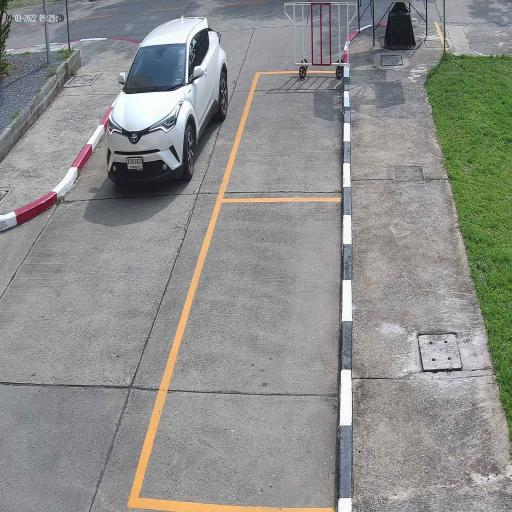car: (104, 14, 230, 187)
